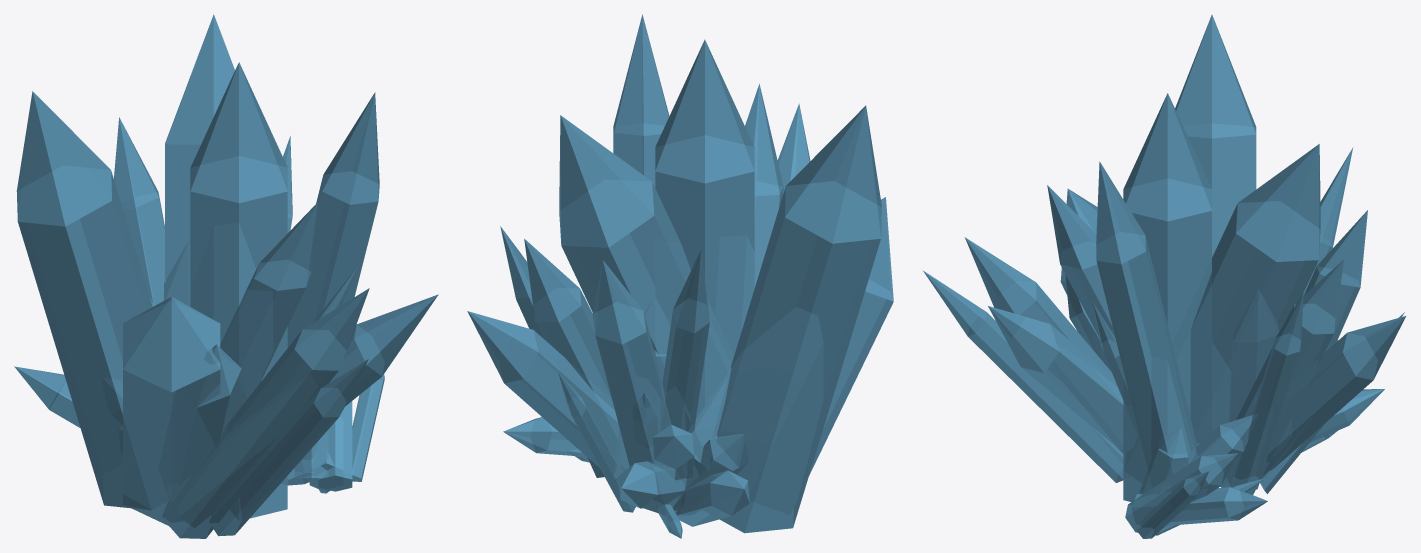
The model's file is crystal 1.fbx.
3 views of the same model, side by side, from view 1: azimuth 30°, elevation 25°; view 2: azimuth 150°, elevation 25°; view 3: azimuth 270°, elevation 25° (orthographic). The views are drawn at different scales.
Parts seen in each view (by area): view 1: crystal_formation, ID84, ID54, ID42, ID90, ID18, ID78, ID114, ID144, ID36, ID276, ID12 (+15 smaller); view 2: crystal_formation, ID54, ID42, ID144, ID138, ID84, ID12, ID30, ID36, ID60, ID18, ID216 (+21 smaller); view 3: crystal_formation, ID42, ID18, ID84, ID144, ID90, ID138, ID78, ID150, ID276, ID162, ID282 (+20 smaller).
Boxes of the visible parts, left/top/right/bottom form: crystal_formation: left=17, top=62, right=287, bottom=520; ID84: left=161, top=202, right=369, bottom=538; ID54: left=123, top=296, right=220, bottom=525; ID42: left=165, top=14, right=255, bottom=494; ID90: left=167, top=294, right=438, bottom=527; ID18: left=279, top=92, right=379, bottom=459; ID78: left=209, top=359, right=368, bottom=536; ID114: left=159, top=344, right=246, bottom=501; ID144: left=114, top=117, right=164, bottom=305; ID36: left=165, top=18, right=212, bottom=143; ID276: left=287, top=401, right=352, bottom=491; ID12: left=190, top=63, right=238, bottom=190; crystal_formation: left=655, top=40, right=881, bottom=533; ID54: left=688, top=197, right=893, bottom=514; ID42: left=559, top=115, right=733, bottom=475; ID144: left=525, top=239, right=686, bottom=515; ID138: left=467, top=311, right=628, bottom=482; ID84: left=716, top=83, right=810, bottom=353; ID12: left=655, top=39, right=754, bottom=183; ID30: left=785, top=106, right=880, bottom=243; ID36: left=560, top=115, right=653, bottom=247; ID60: left=660, top=250, right=709, bottom=462; ID18: left=613, top=16, right=669, bottom=187; ID216: left=652, top=424, right=749, bottom=526; crystal_formation: left=1123, top=14, right=1256, bottom=501; ID42: left=1125, top=144, right=1319, bottom=482; ID18: left=1096, top=161, right=1198, bottom=486; ID84: left=965, top=185, right=1126, bottom=463; ID144: left=1220, top=210, right=1367, bottom=494; ID90: left=988, top=306, right=1137, bottom=451; ID138: left=1226, top=316, right=1405, bottom=485; ID78: left=923, top=271, right=1127, bottom=482; ID150: left=1232, top=294, right=1303, bottom=492; ID276: left=1125, top=414, right=1258, bottom=532; ID162: left=1229, top=289, right=1291, bottom=455; ID282: left=1132, top=487, right=1267, bottom=525.
Bounding box in the file's own units: 72.62 × 91.92 × 86.56.
